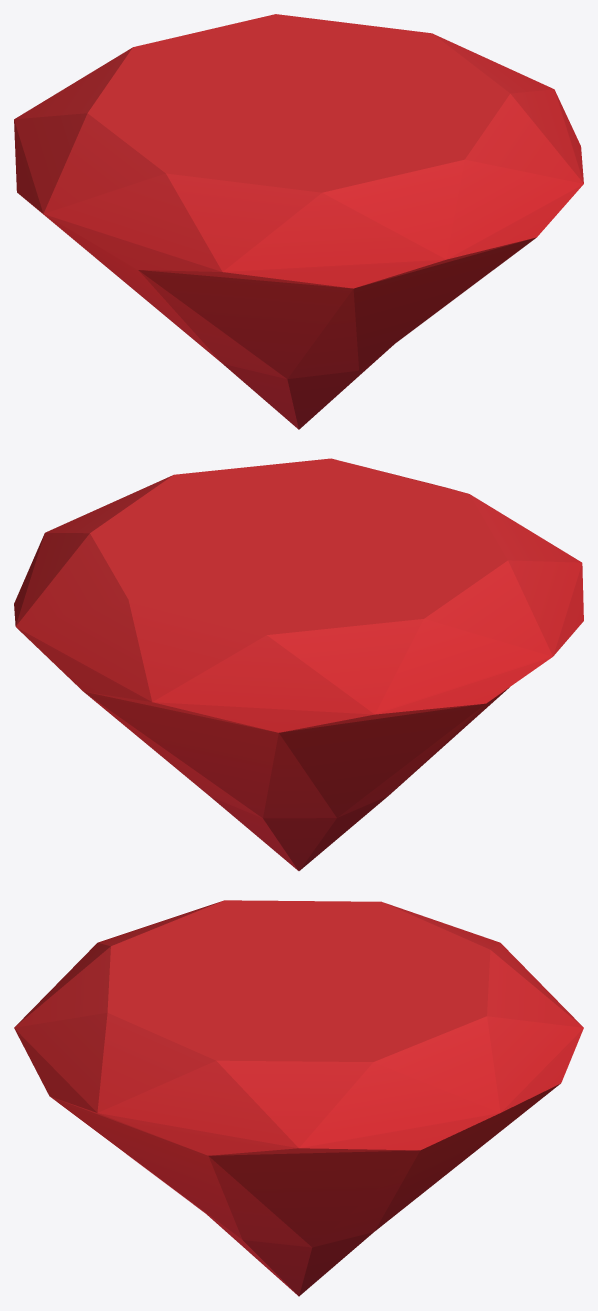
Rendered from RedGem_.fbx.
3 renders of one model, top to bottom at view 1: azimuth 30°, elevation 25°; view 2: azimuth 150°, elevation 25°; view 3: azimuth 270°, elevation 25°, orthographic. The views are drawn at different scales.
Visible parts, largest first — view 1: RedGem; view 2: RedGem; view 3: RedGem.
Part boxes in pixels (x1,y1,x2,y2): RedGem: (14, 14, 583, 429); RedGem: (14, 458, 583, 870); RedGem: (14, 900, 583, 1296).
Size of the model in its own units: 20000 by 12211 by 20000.
